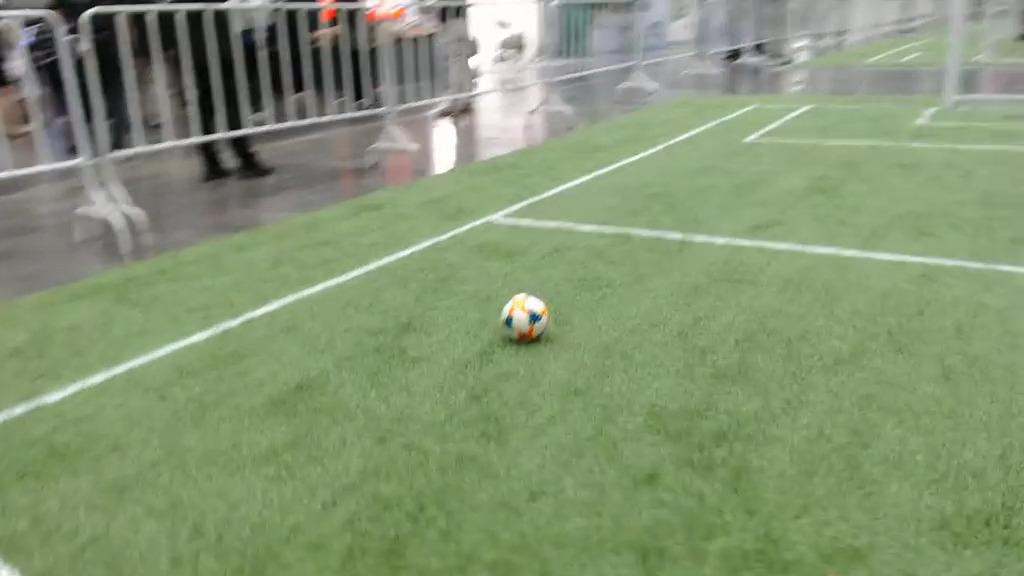ball: (504, 292, 548, 344)
